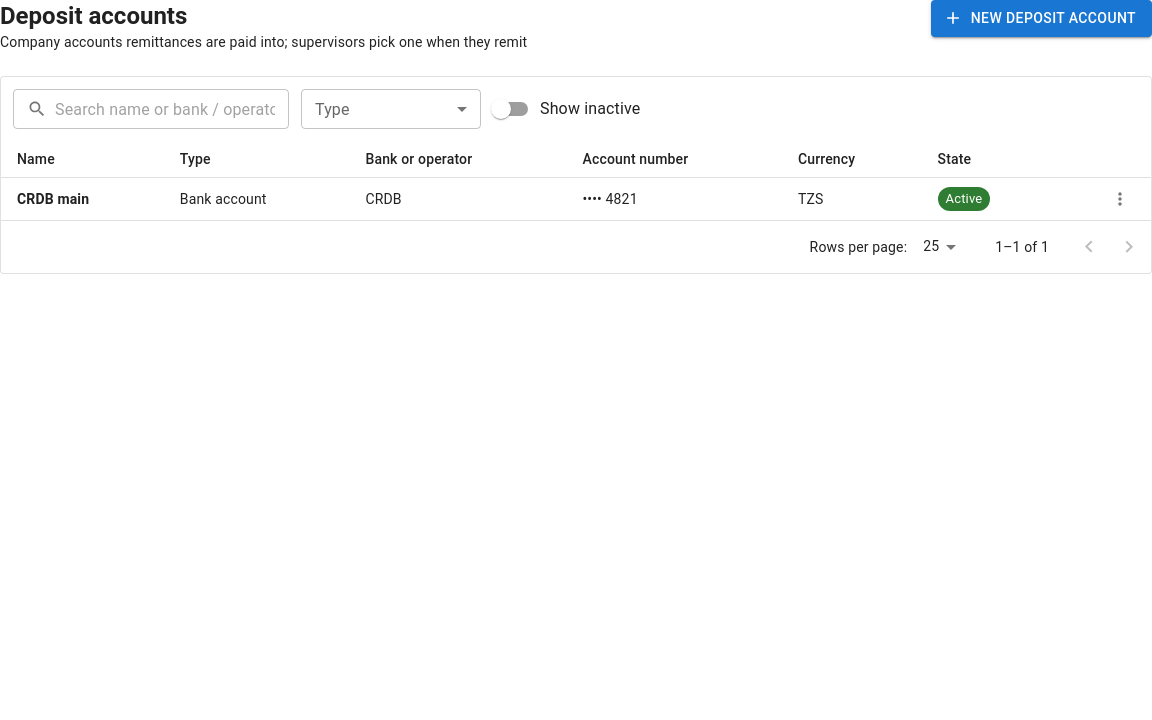
Test: deposit accounts list › explains DUPLICATE_DEPOSIT_ACCOUNT
The width and height of the screenshot is (1152, 720).
Click the button "New deposit account" at (1041, 18), box top-left (931, 0), bottom-right (1151, 36)
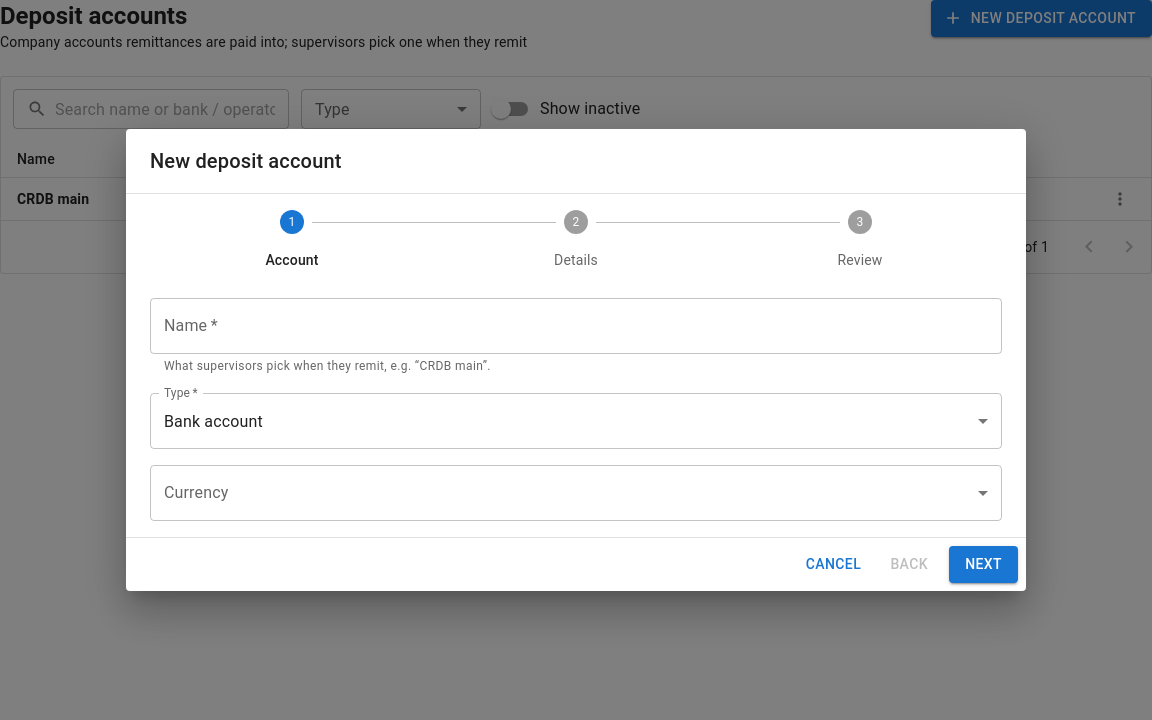
Type "CRDB main" into the field labelled "Name *" at (576, 326), box top-left (150, 298), bottom-right (1002, 354)
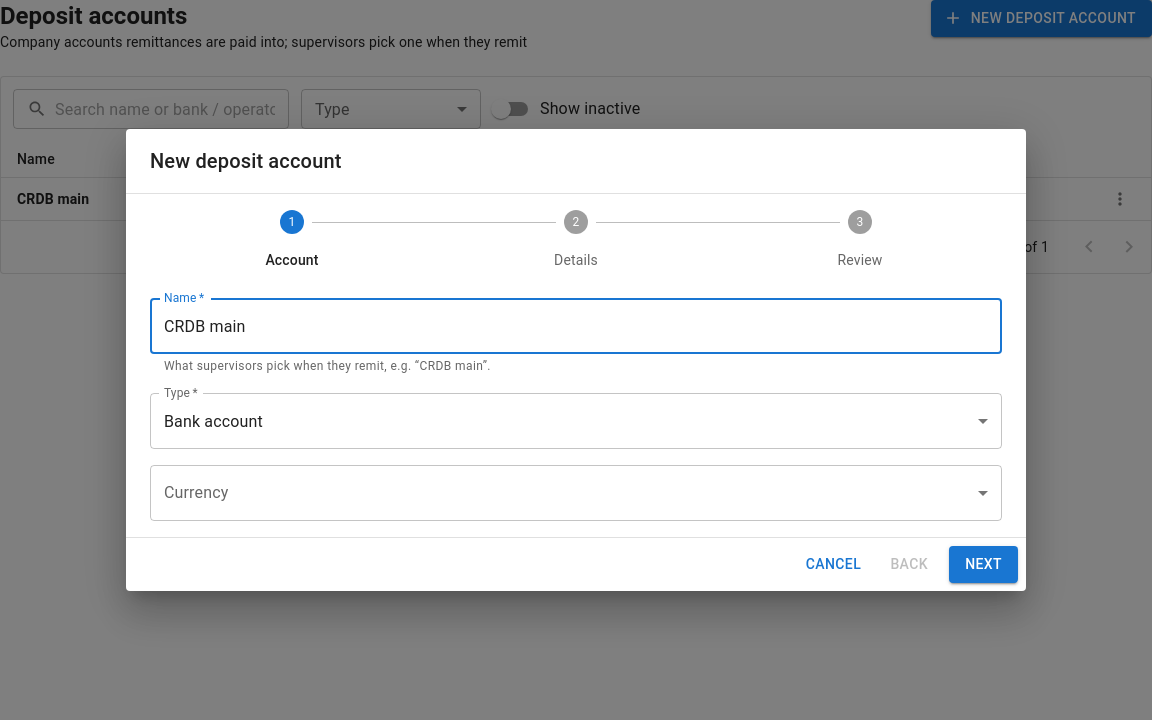
Click the button "Next" at (984, 564), box top-left (949, 546), bottom-right (1018, 583)
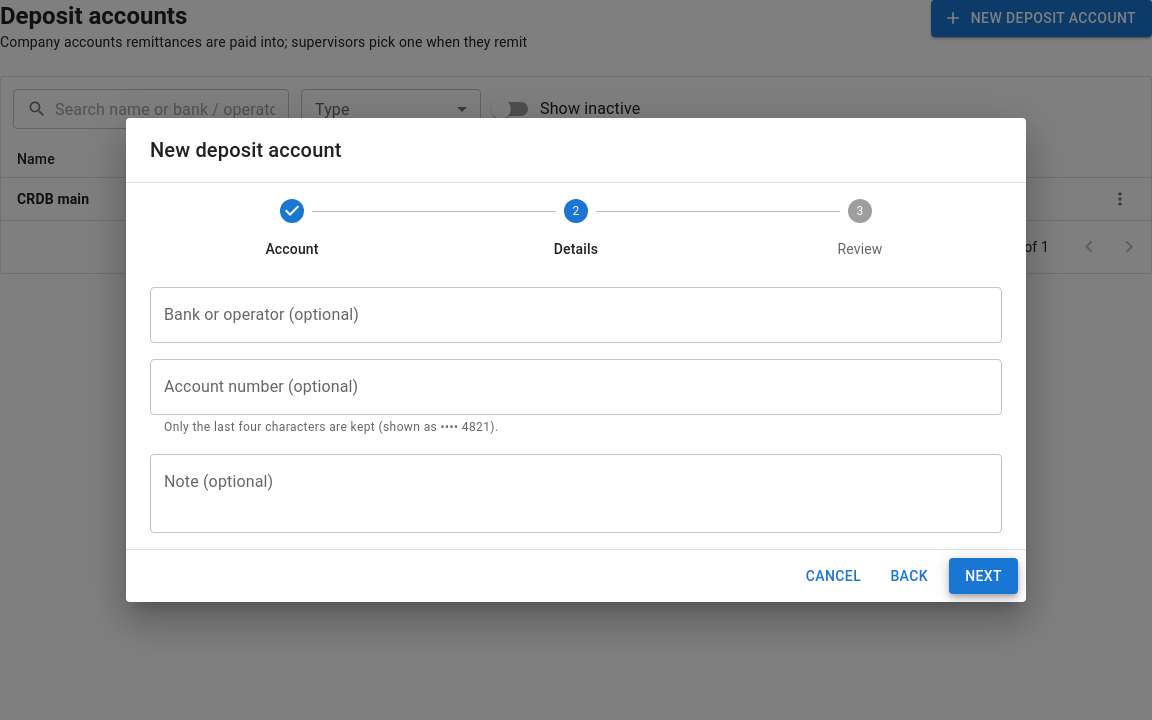
Click the button "Next" at (984, 576), box top-left (949, 558), bottom-right (1018, 594)
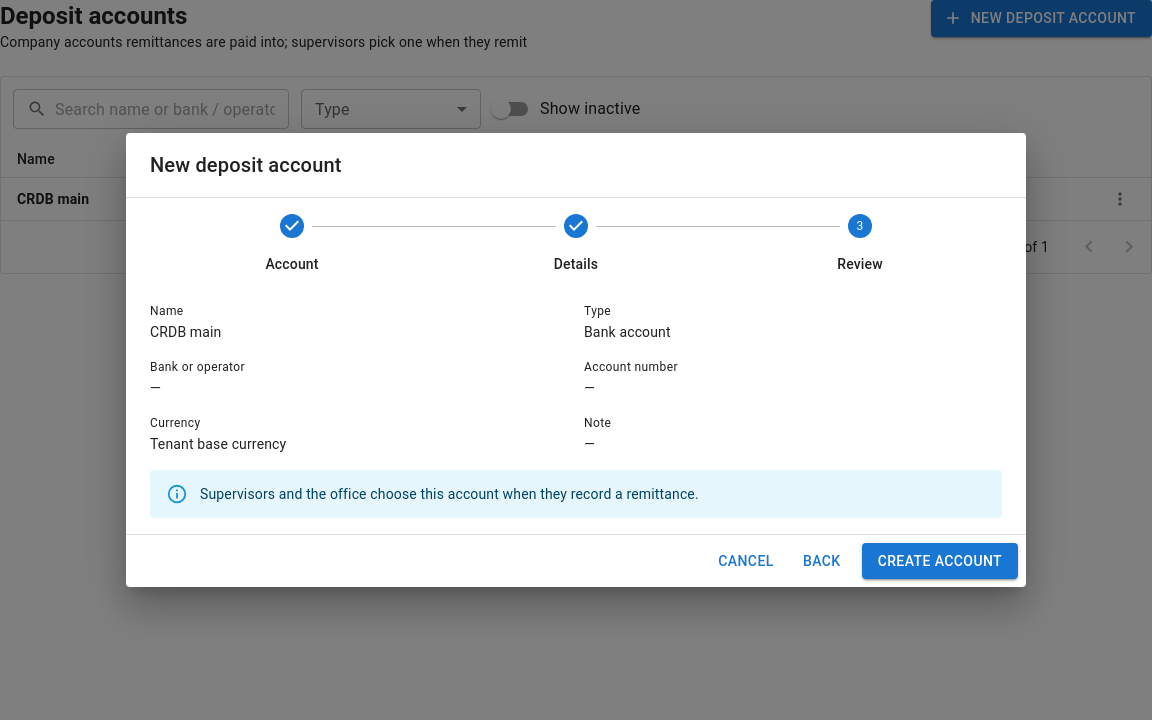
Click the button "Create account" at (940, 561), box top-left (862, 543), bottom-right (1018, 579)
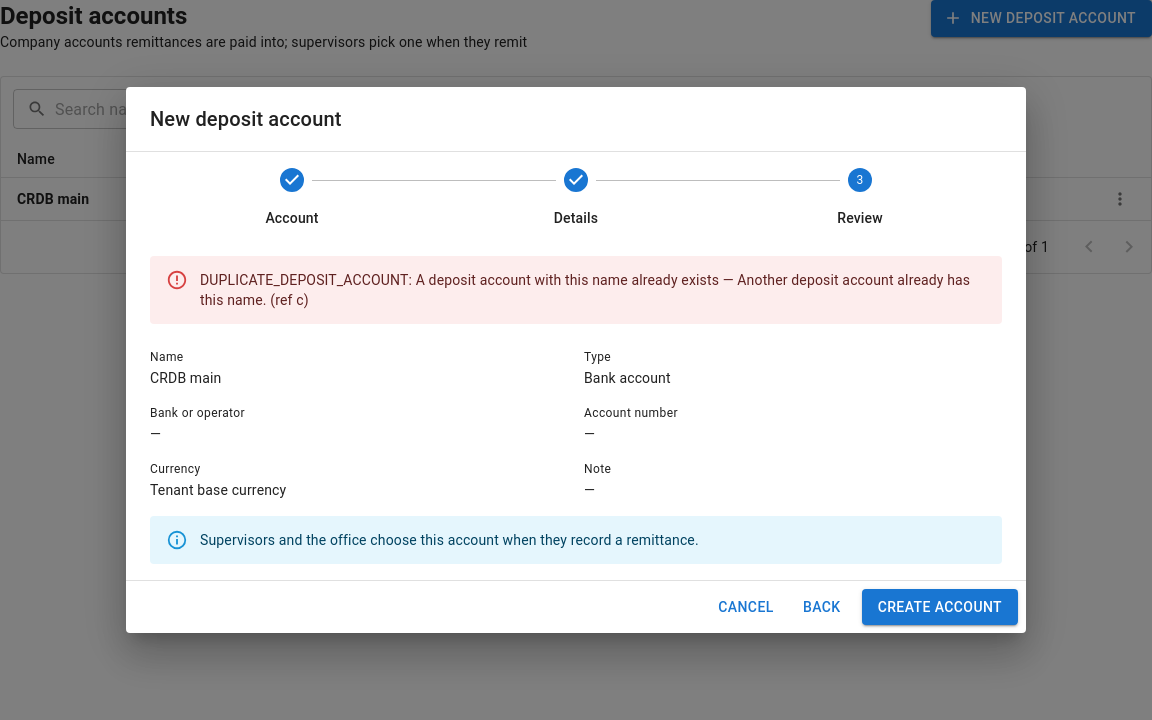
Check: the text "Another deposit account already has this name" is shown, box top-left (200, 272), bottom-right (970, 308)
